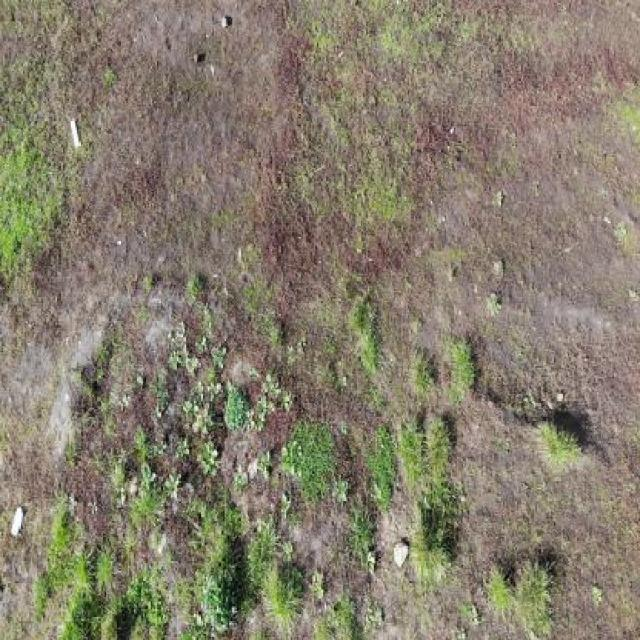Garbage: (9, 505, 25, 537), (69, 117, 81, 149)
